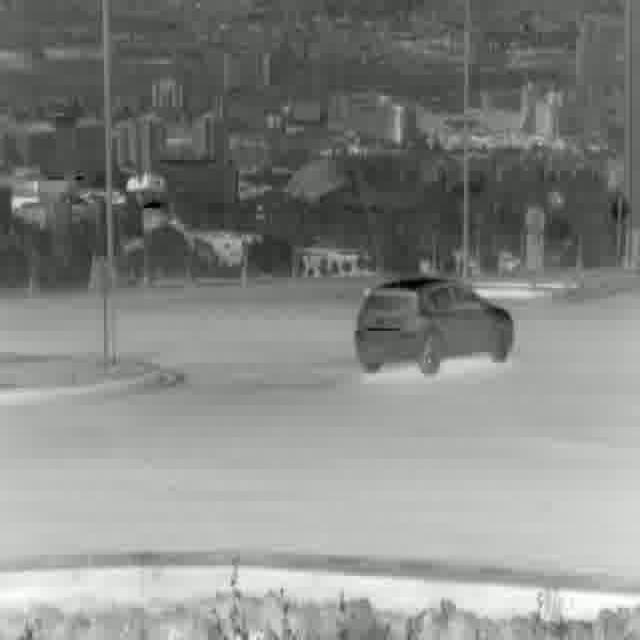Car: (354, 273, 514, 374)
